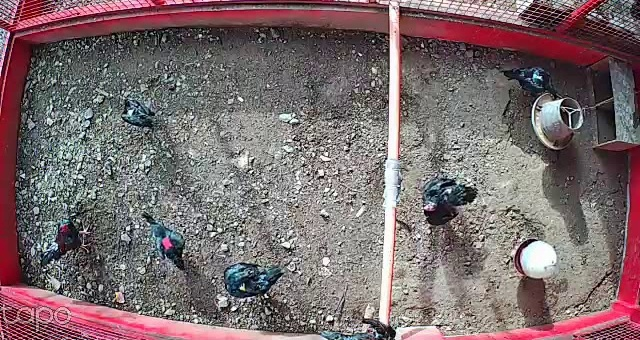Chicken: (134, 207, 193, 272), (420, 173, 480, 227), (222, 258, 285, 301), (498, 60, 557, 105), (318, 320, 405, 340), (118, 94, 158, 129)
Rooster: (41, 217, 97, 271)
Saddle_Color_Red: (160, 237, 172, 250)
